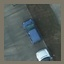car: (21, 18, 42, 46)
